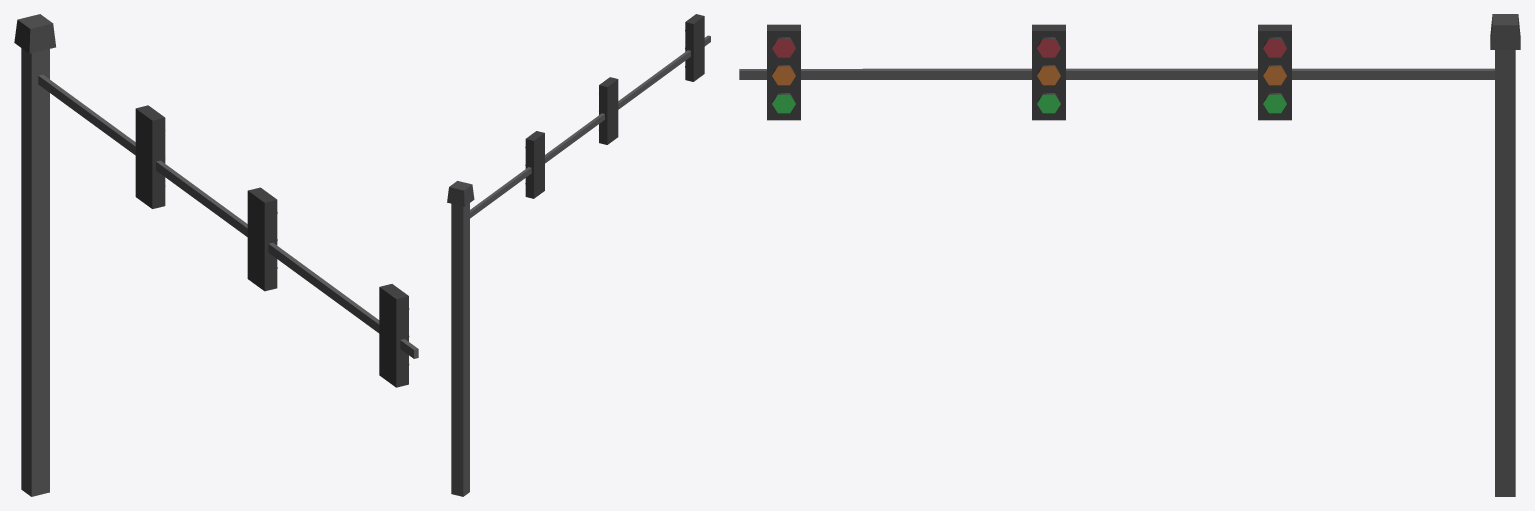
File: signalLight_01.FBX
3 renders of one model, left to right at view 1: azimuth 30°, elevation 25°; view 2: azimuth 150°, elevation 25°; view 3: azimuth 270°, elevation 25°, orthographic. The views are drawn at different scales.
Visible parts, largest first — view 1: signalLight_01; view 2: signalLight_01; view 3: signalLight_01.
Part boxes in pixels (<box>): signalLight_01: <box>14,14,418,496</box>; signalLight_01: <box>447,14,710,496</box>; signalLight_01: <box>739,14,1520,496</box>.
Size of the model in its own units: 0.6175 by 10.31 by 15.45.
